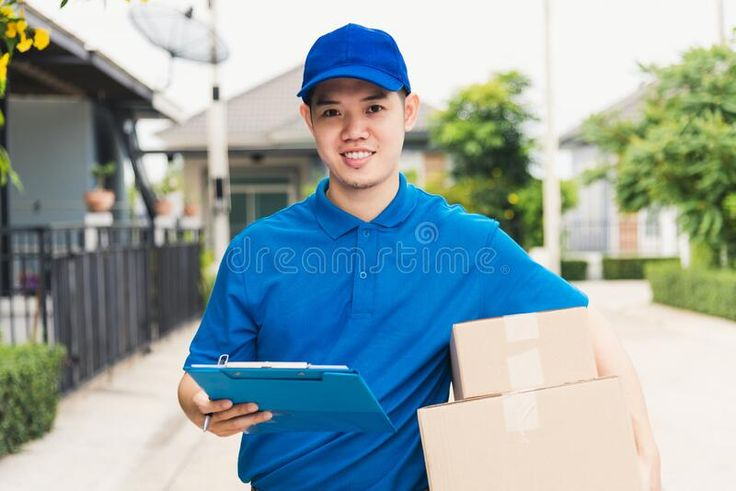DeliveryBox: (398, 295, 669, 491)
Person: (148, 14, 461, 491)
Tree: (563, 35, 736, 330)
